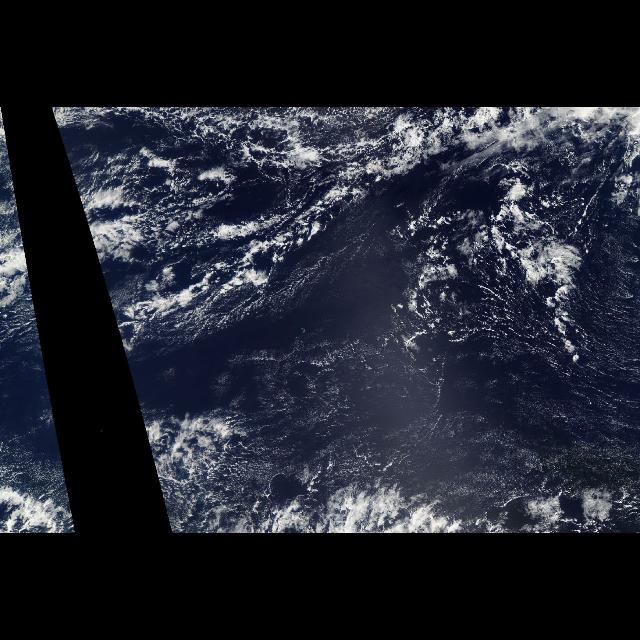Fish: (64, 108, 612, 366)
Sugar: (209, 339, 625, 523)
